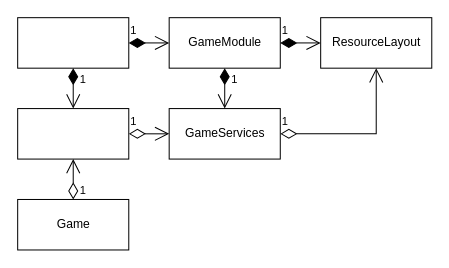
This 449x268 diagram has some shape labels left out. The centre of each missing label's shape, as x and y in pixels:
"Services" goes at (73,42).
"ServicesView" goes at (73,133).
